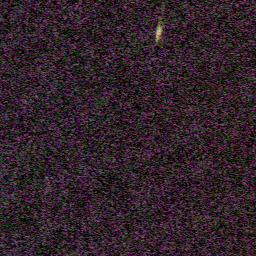Ship: (151, 22, 166, 44)
